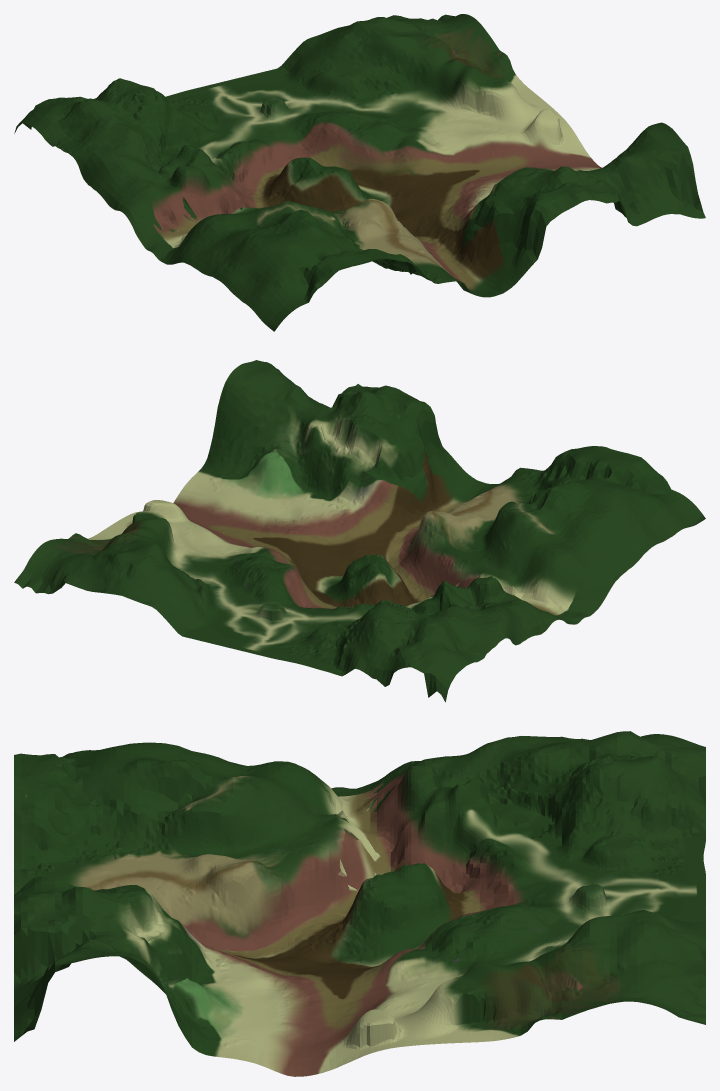
The model's file is TO11_Terrain.fbx.
3 views of the same model, one above another, from view 1: azimuth 30°, elevation 25°; view 2: azimuth 150°, elevation 25°; view 3: azimuth 270°, elevation 25° (orthographic). The views are drawn at different scales.
Visible parts, largest first — view 1: T11.BluishMountain2, T11.GreenMountain1, T11.RedMountain1, T11.StartValley2, T11.StartingRiver1, T11.RedMountain2, T11.HugeMountain3, T11.DreamBeach1, T11.EngineersSea1, T11.HugeMountain1, T11.StartValley1, T11.BackMountain (+13 smaller); view 2: T11.RedMountain2, T11.HugeMountain2, T11.BluishMountain2, T11.RedMountain1, T11.HugeMountain4, T11.GreenMountain1, T11.ExpansivePlains1, T11.HugeMountain1, T11.ForestEntrance, T11.GreenMountain3, T11.StarSand2, T11.StartingRiver1 (+14 smaller); view 3: T11.BluishMountain2, T11.RedMountain2, T11.ExpansivePlains1, T11.StartingRiver1, T11.GreenMountain1, T11.ExpansivePlains3, T11.ExpansivePlains2, T11.GreenMountain3, T11.lonelyIsland, T11.HugeMountain1, T11.DreamBeach2, T11.ForestPlains (+15 smaller).
Part boxes in pixels (x1,y1,x2,y2): T11.BluishMountain2: [14, 78, 255, 226]; T11.GreenMountain1: [281, 17, 529, 117]; T11.RedMountain1: [169, 228, 334, 331]; T11.StartValley2: [299, 111, 453, 182]; T11.StartingRiver1: [138, 152, 458, 263]; T11.RedMountain2: [166, 201, 400, 273]; T11.HugeMountain3: [590, 125, 705, 226]; T11.DreamBeach1: [407, 80, 535, 162]; T11.EngineersSea1: [443, 202, 546, 297]; T11.HugeMountain1: [433, 166, 627, 270]; T11.StartValley1: [290, 66, 442, 120]; T11.BackMountain: [30, 118, 145, 239]; T11.RedMountain2: [495, 446, 645, 609]; T11.HugeMountain2: [210, 368, 367, 490]; T11.BluishMountain2: [307, 577, 549, 702]; T11.RedMountain1: [571, 461, 705, 605]; T11.HugeMountain4: [307, 424, 421, 540]; T11.GreenMountain1: [98, 511, 211, 633]; T11.ExpansivePlains1: [413, 519, 518, 591]; T11.HugeMountain1: [320, 384, 435, 516]; T11.ForestEntrance: [178, 611, 346, 676]; T11.GreenMountain3: [14, 533, 116, 594]; T11.StarSand2: [174, 448, 274, 519]; T11.StartingRiver1: [253, 545, 597, 624]; T11.BluishMountain2: [384, 731, 705, 888]; T11.RedMountain2: [14, 744, 349, 822]; T11.ExpansivePlains1: [200, 799, 365, 919]; T11.StartingRiver1: [260, 778, 501, 988]; T11.GreenMountain1: [420, 910, 705, 1031]; T11.ExpansivePlains3: [14, 854, 274, 944]; T11.ExpansivePlains2: [14, 801, 226, 869]; T11.GreenMountain3: [514, 937, 705, 1035]; T11.lonelyIsland: [309, 863, 459, 960]; T11.HugeMountain1: [14, 876, 143, 971]; T11.DreamBeach2: [281, 1007, 437, 1076]; T11.ForestPlains: [493, 839, 633, 916].
Bounding box in the file's own units: 31046 × 7066 × 32440.
